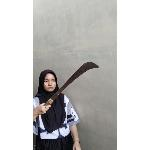Golok: (44, 61, 102, 107)
